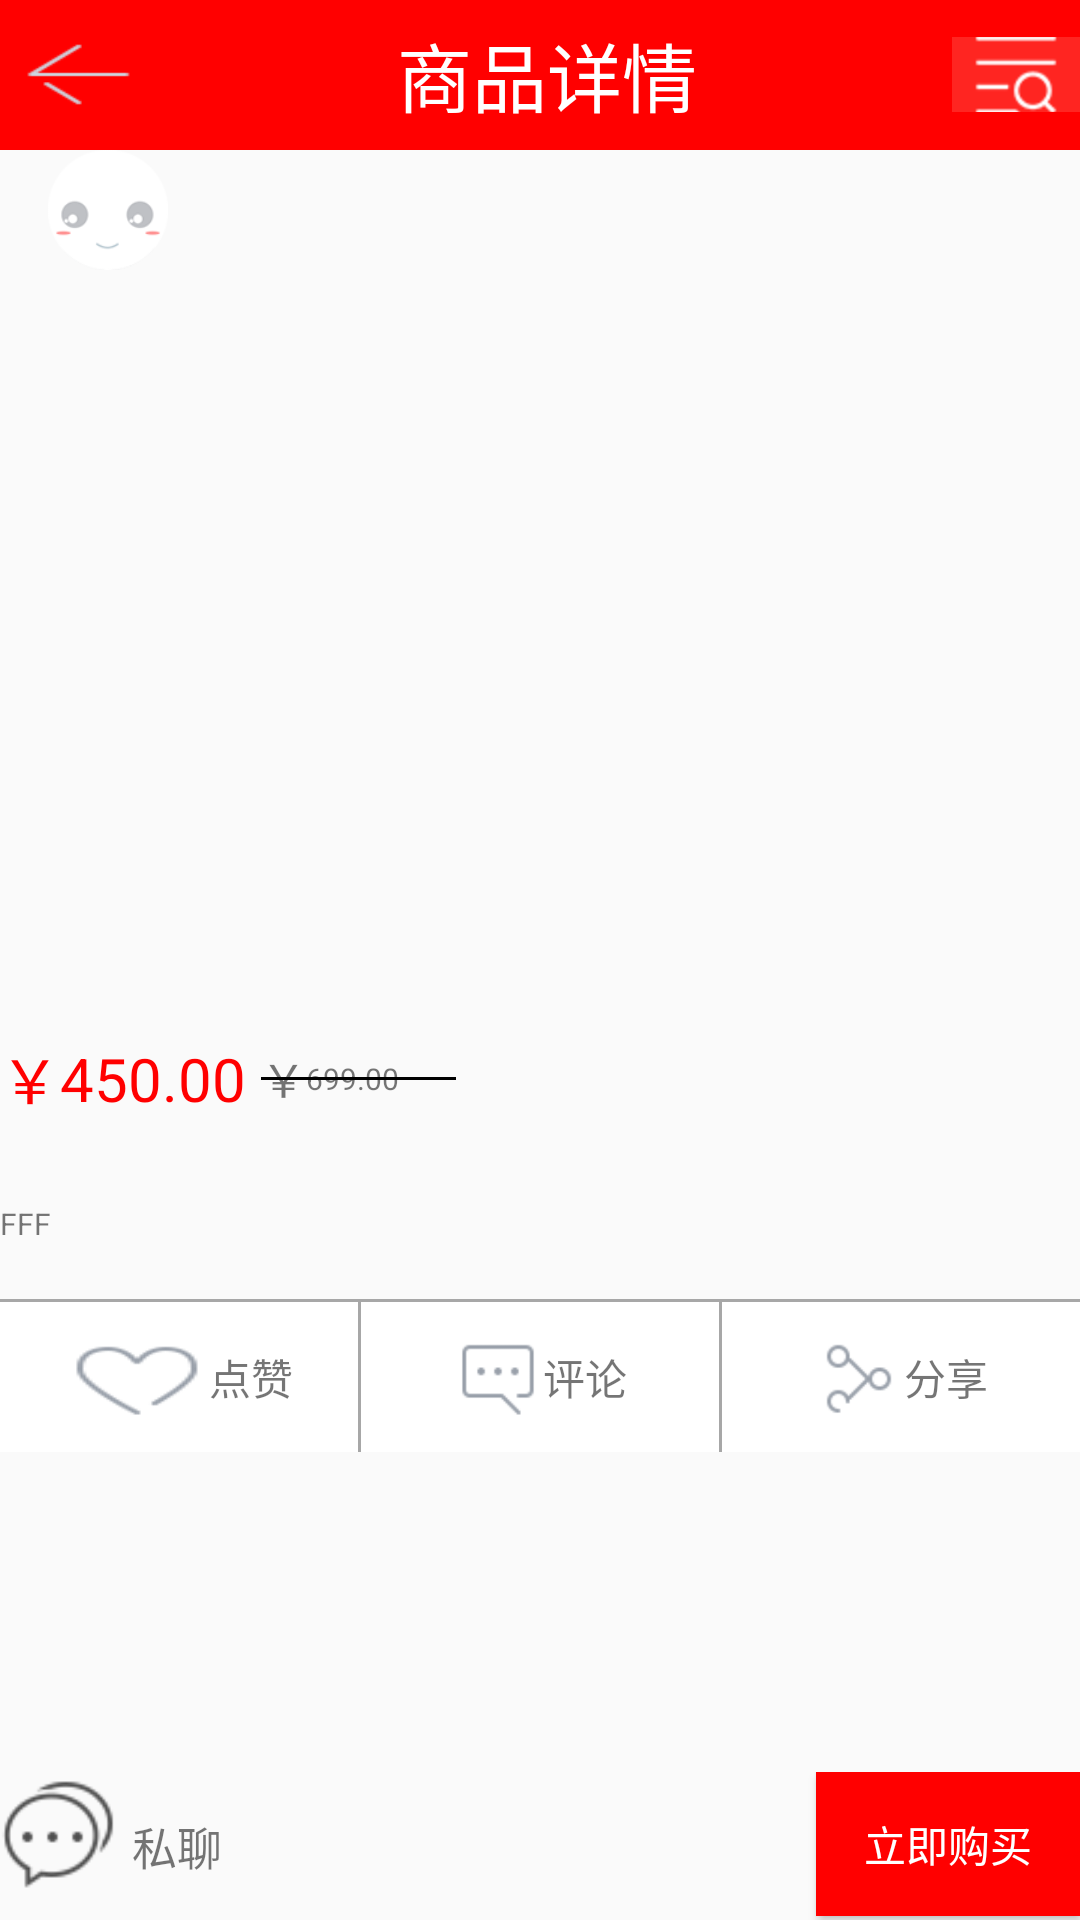

Where to tap for icons on this 1080px x 1920px app screen, as point (x, y):
back on: point (78, 74)
find imagebutton: point (1016, 74)
